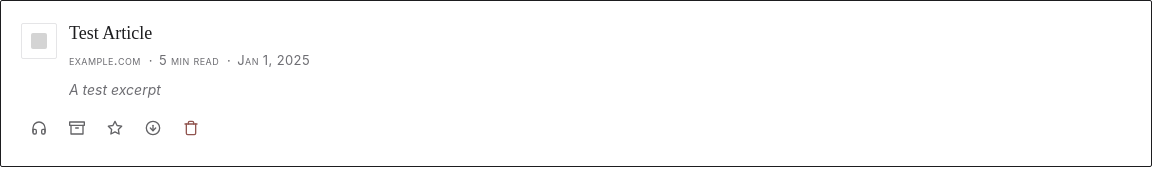
Test case: ArticleCard › disables listen later button during audioLoading
Click the button titled "Listen later". click: (39, 128)
box: [21,110,57,146]
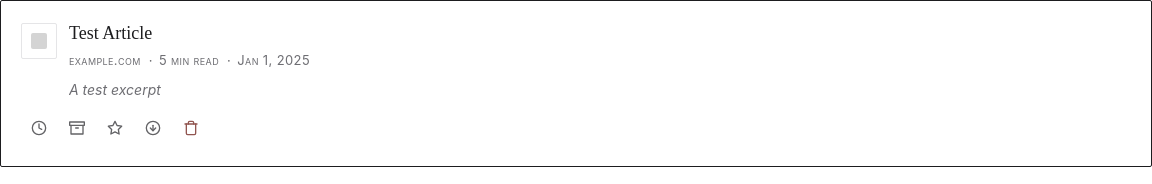
Expected: the button titled "Listen later" is disabled, [21,110,57,146]
